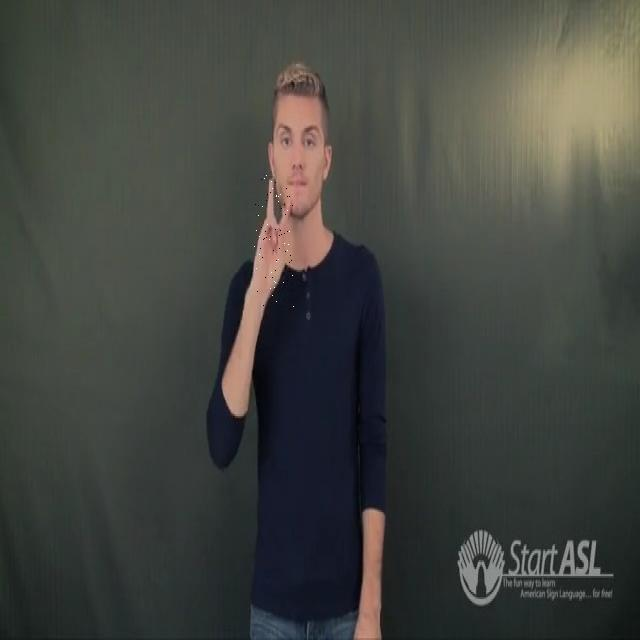vegetables: (254, 172, 294, 308)
